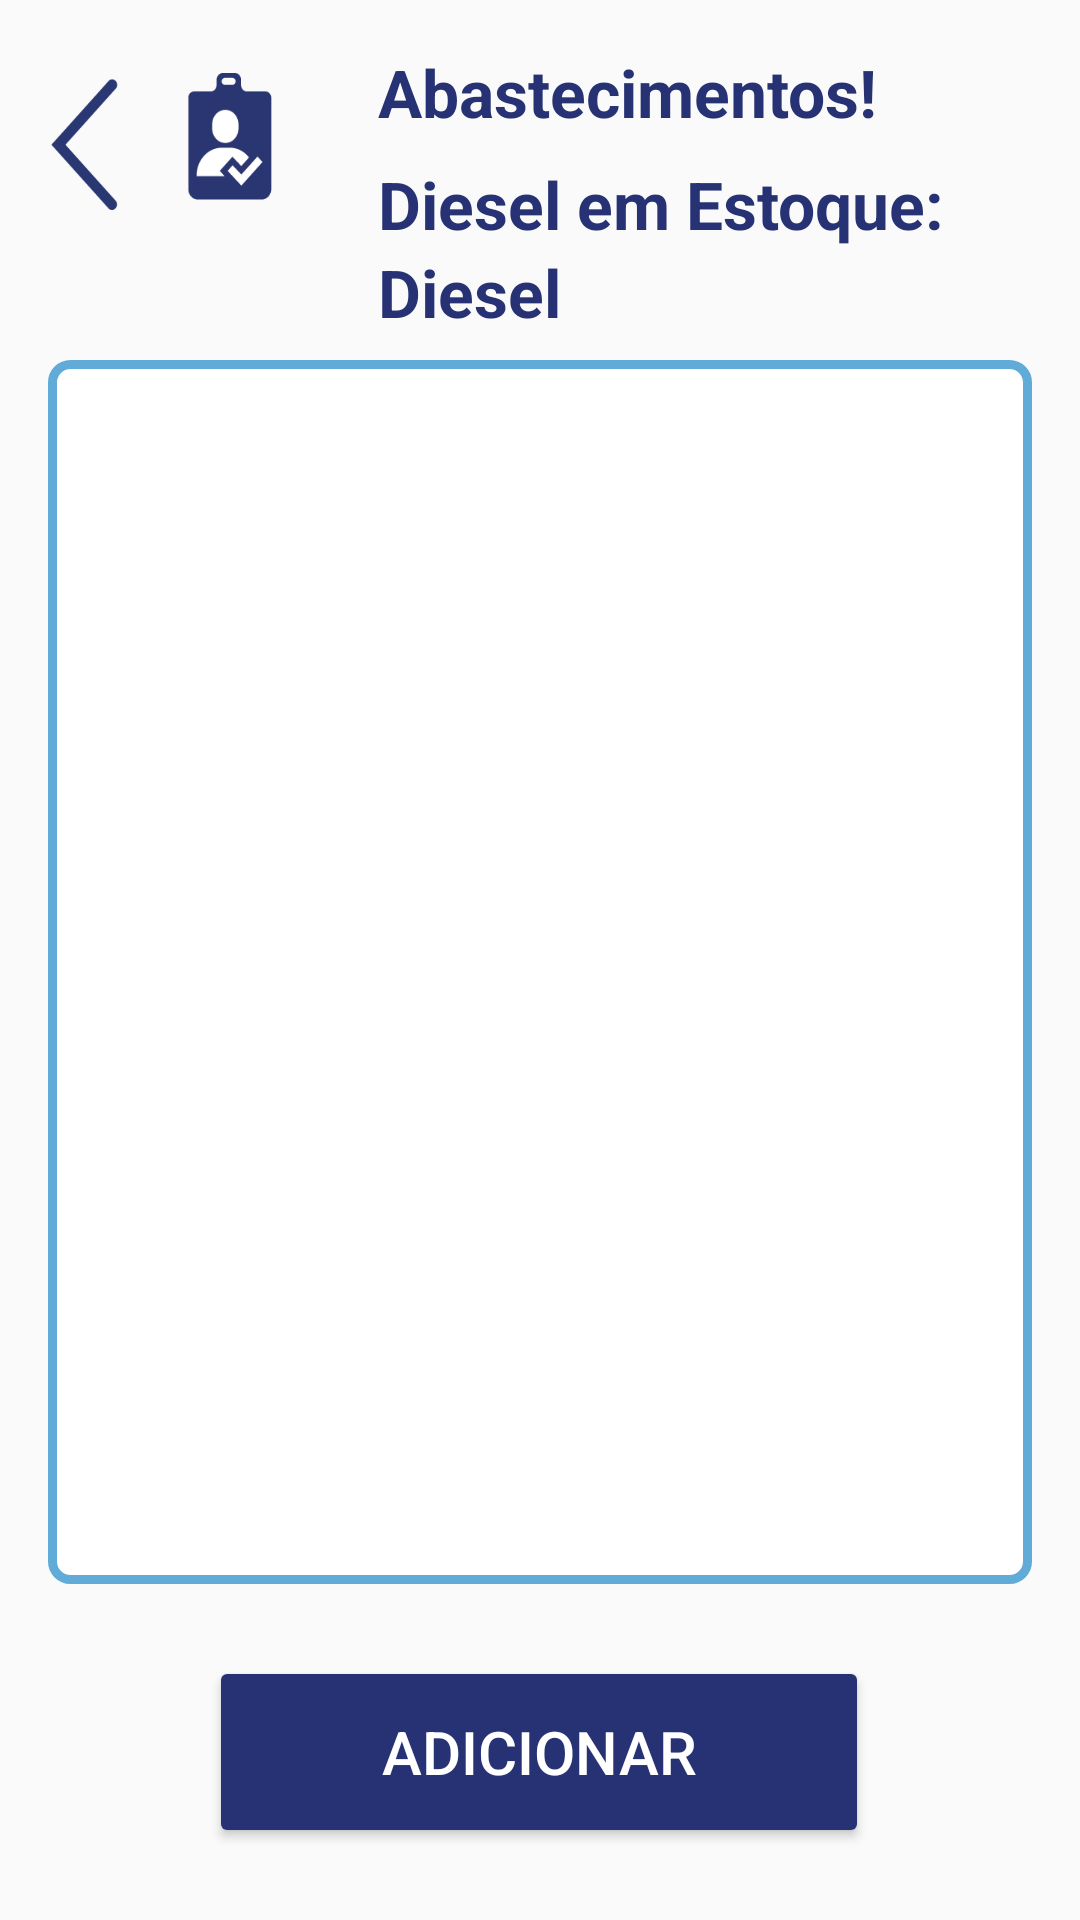

Where icons sit on this 1080 x 1920 app screen, as (x1, y1, x2, y2):
voltar adm: (51, 73, 272, 210)
